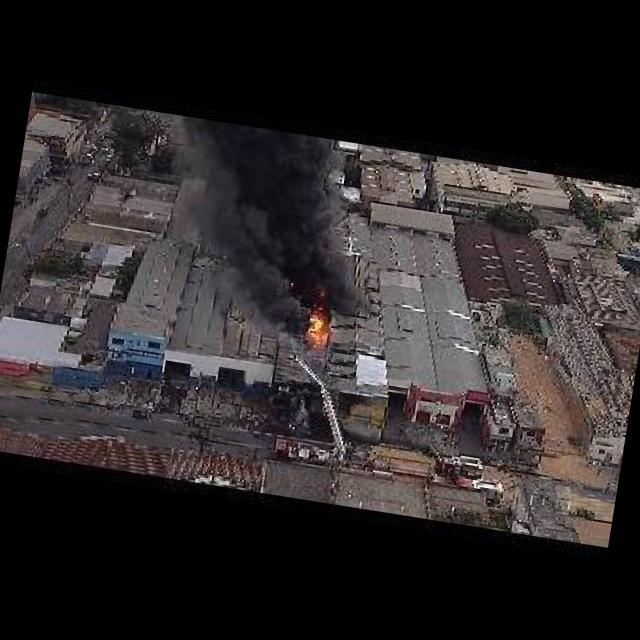Fire: (289, 280, 352, 360)
Smoke: (160, 104, 380, 310)
